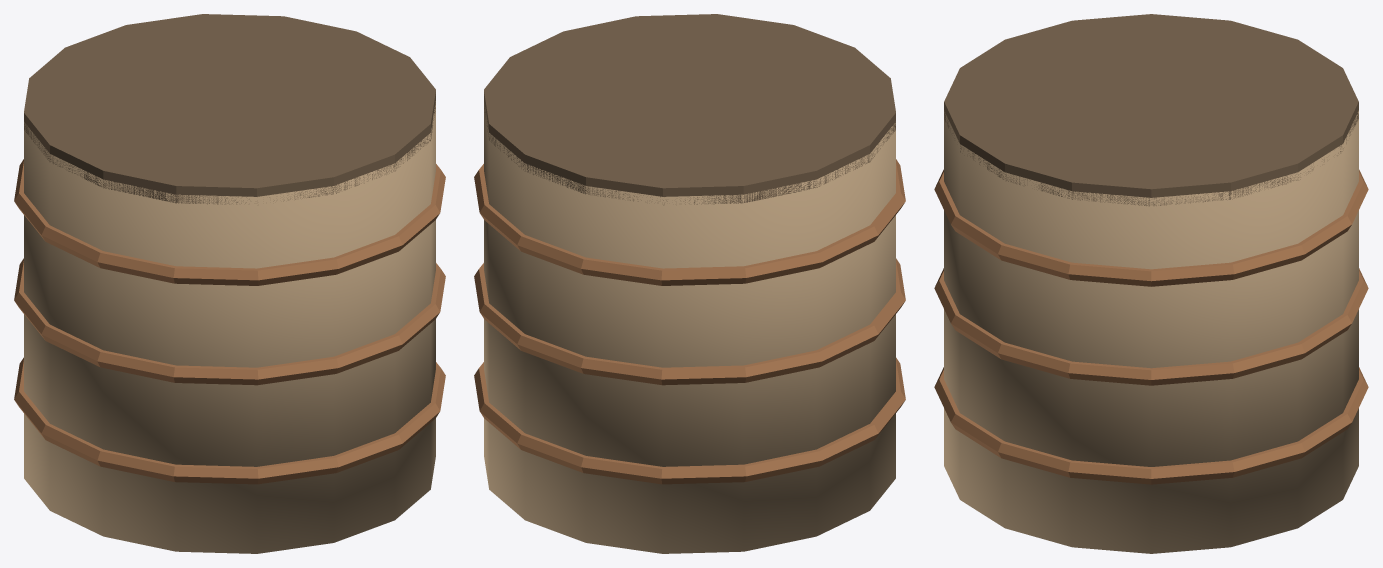
File: LL_Barrel.fbx
3 views of the same model, side by side, from view 1: azimuth 30°, elevation 25°; view 2: azimuth 150°, elevation 25°; view 3: azimuth 270°, elevation 25° (orthographic).
Parts seen in each view (by area): view 1: LL_Barrel, LL_Barrel_Lid, LL_Barrel_Hoop_38, LL_Barrel_Hoop_18, LL_Barrel_Hoop_57; view 2: LL_Barrel, LL_Barrel_Lid, LL_Barrel_Hoop_38, LL_Barrel_Hoop_18, LL_Barrel_Hoop_57; view 3: LL_Barrel, LL_Barrel_Lid, LL_Barrel_Hoop_38, LL_Barrel_Hoop_18, LL_Barrel_Hoop_57.
Part boxes in pixels (box(x1,y1,x2,y2)): LL_Barrel: box(24, 101, 435, 553); LL_Barrel_Lid: box(24, 14, 435, 204); LL_Barrel_Hoop_38: box(14, 258, 445, 385); LL_Barrel_Hoop_18: box(14, 357, 445, 484); LL_Barrel_Hoop_57: box(14, 159, 445, 285); LL_Barrel: box(484, 102, 895, 553); LL_Barrel_Lid: box(484, 14, 895, 205); LL_Barrel_Hoop_38: box(474, 258, 905, 385); LL_Barrel_Hoop_18: box(474, 357, 905, 484); LL_Barrel_Hoop_57: box(474, 159, 905, 285); LL_Barrel: box(944, 110, 1358, 553); LL_Barrel_Lid: box(944, 14, 1358, 206); LL_Barrel_Hoop_38: box(934, 268, 1368, 385); LL_Barrel_Hoop_18: box(934, 367, 1368, 484); LL_Barrel_Hoop_57: box(934, 169, 1368, 286).
Size of the model in its own units: 0.796 by 0.7375 by 0.796.
